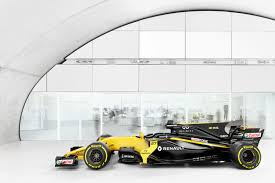f1_car: (50, 115, 269, 177)
